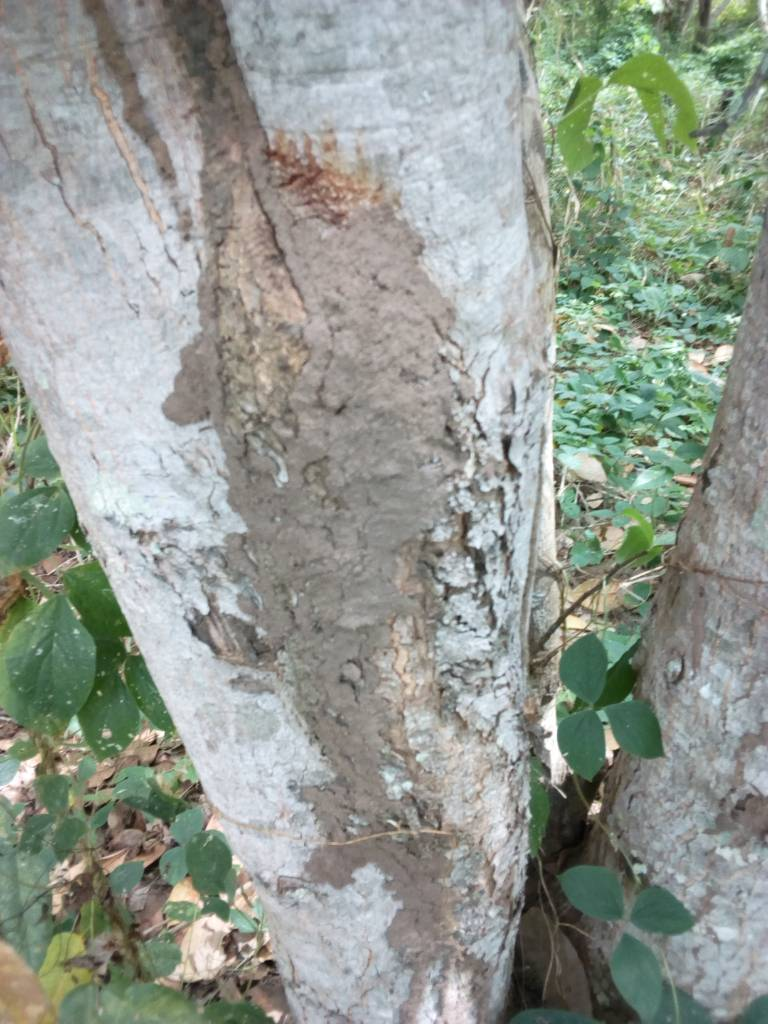Termites: (202, 174, 550, 891)
